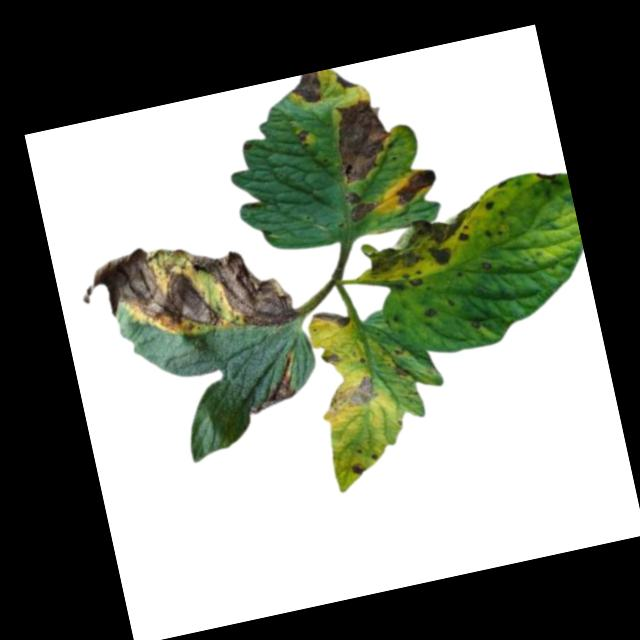Early_blight: (75, 218, 297, 365), (357, 209, 475, 281), (328, 94, 398, 186), (236, 348, 305, 414), (319, 373, 378, 413), (390, 166, 441, 207), (289, 72, 324, 107), (342, 187, 375, 224), (312, 303, 351, 333), (333, 69, 358, 93), (321, 347, 343, 367), (348, 457, 369, 477), (392, 359, 412, 379), (534, 166, 556, 183), (294, 127, 311, 148), (405, 272, 423, 288), (420, 304, 437, 318), (478, 259, 494, 271), (482, 197, 495, 211)
